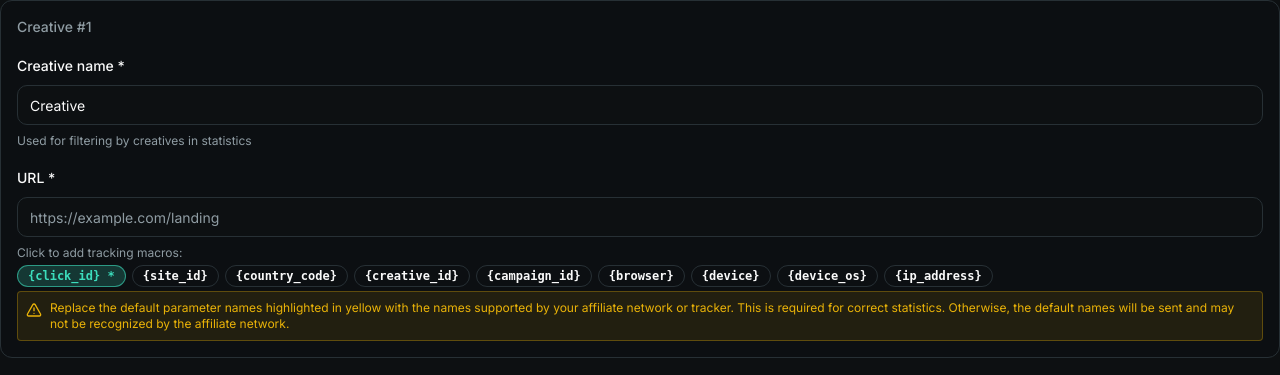
Test: creative URL macros › shows click_id immediately after the first URL character is entered
Type "h" into the field with placeholder "https://example.com/landing" at {"x": 640, "y": 217}, box top-left (17, 197), bottom-right (1263, 237)
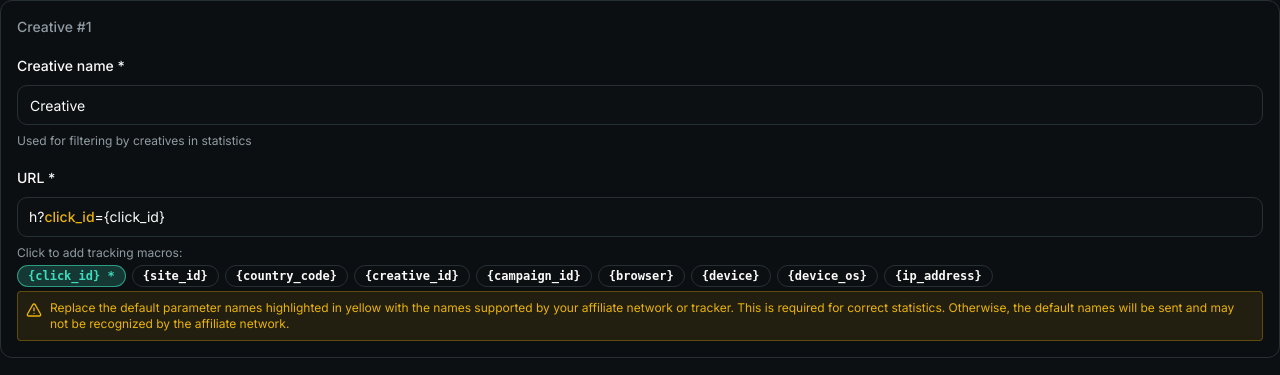
Result: the field with placeholder "https://example.com/landing" next to "={click_id}" holds "h?click_id={click_id}" at top-left (17, 197), bottom-right (1263, 237)
